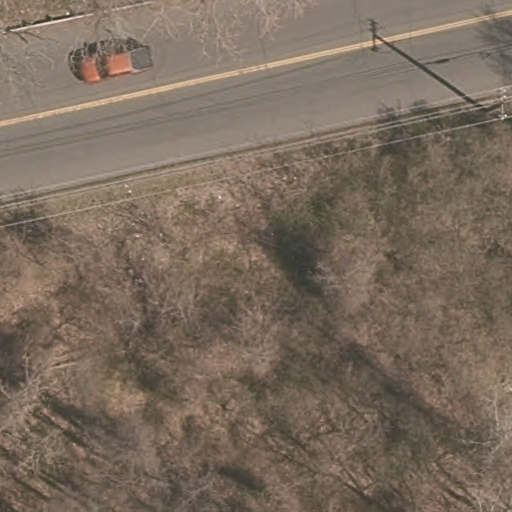DT: (475, 73, 511, 126)
